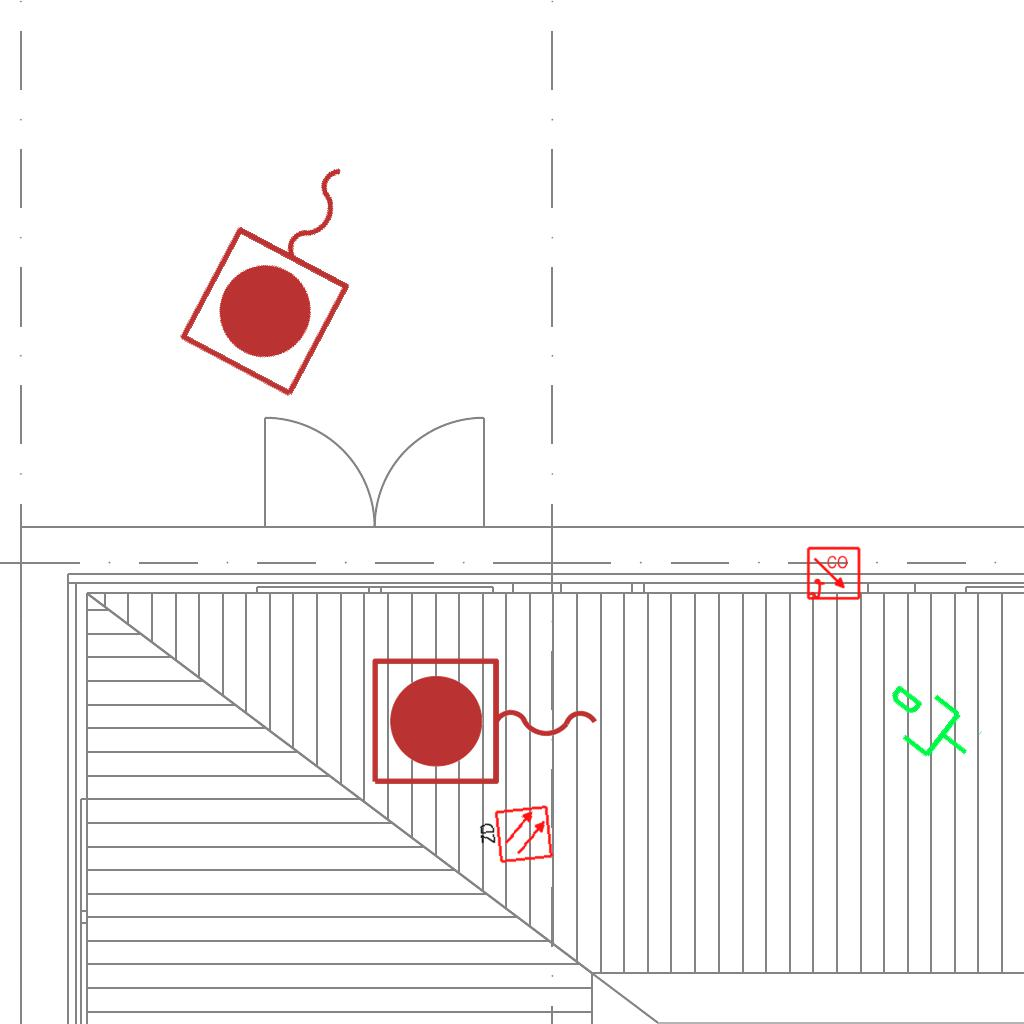Datenanschluss_einfach: (866, 667, 989, 783)
ROA_Rauchmelder_optisch_mit_Signalgeber_(Sockelsirene): (806, 546, 862, 602)
ZD_Melder_in_Zwischendecke_mit_Revisionsoeffnung_mind_40_x_40_cm: (474, 803, 555, 869)
Zugtaster: (169, 126, 411, 410), (364, 651, 608, 795)
